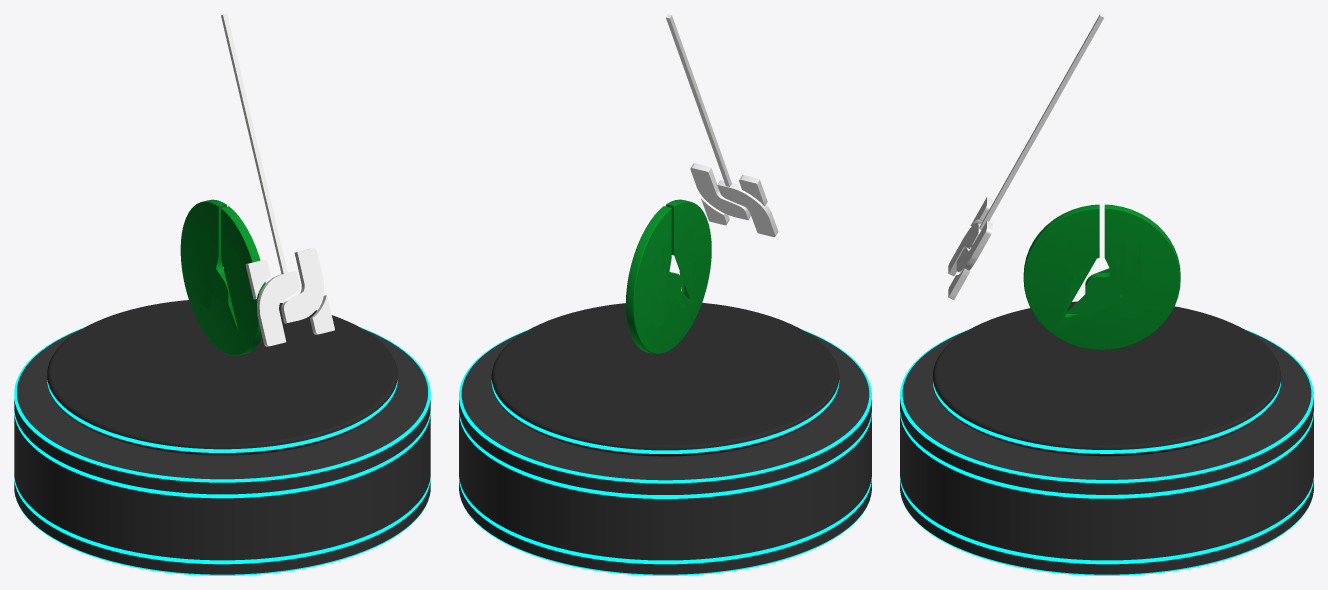
Rendered from heco chain3.fbx.
3 renders of one model, left to right at view 1: azimuth 30°, elevation 25°; view 2: azimuth 150°, elevation 25°; view 3: azimuth 270°, elevation 25°, orthographic.
Parts seen in each view (by area): view 1: Cylinder.003, Cylinder.002, Cylinder, Cube; view 2: Cylinder.003, Cylinder.002, Cylinder, Cube; view 3: Cylinder.003, Cylinder.002, Cylinder, Cube.
Part boxes in pixels (box(x1,y1,x2,y2)): Cylinder.003: box(14, 327, 430, 575); Cylinder.002: box(47, 300, 397, 455); Cylinder: box(180, 199, 265, 355); Cube: box(221, 14, 334, 346); Cylinder.003: box(459, 329, 871, 575); Cylinder.002: box(491, 302, 839, 456); Cylinder: box(625, 199, 711, 354); Cube: box(666, 14, 778, 236); Cylinder.003: box(900, 328, 1313, 575); Cylinder.002: box(933, 301, 1280, 456); Cylinder: box(1023, 204, 1180, 350); Cube: box(948, 14, 1104, 299).
Bounding box in the file's own units: 264 × 334 × 264.
